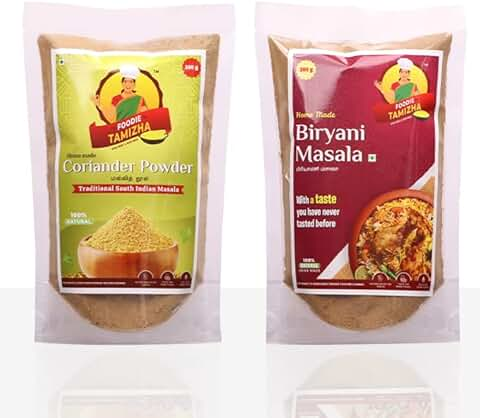Biryani: (257, 3, 462, 346)
